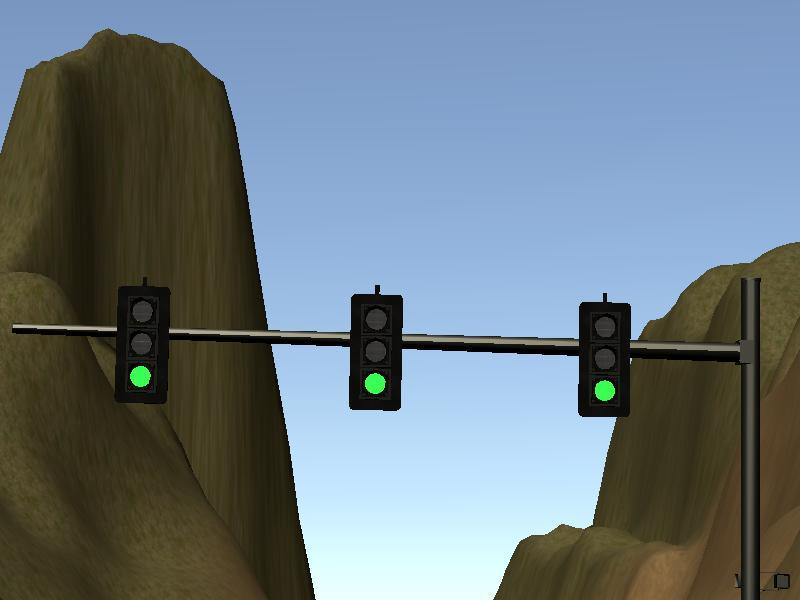Green: (349, 295, 400, 407), (582, 300, 629, 417), (120, 289, 166, 401)
